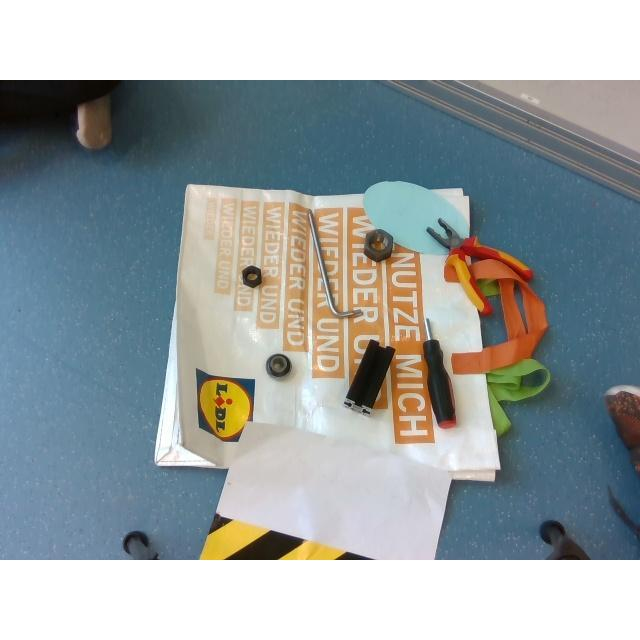AllenKey: (306, 208, 362, 318)
Bearing2: (266, 354, 290, 378)
M20: (242, 265, 262, 287)
M30: (363, 229, 393, 261)
S40_40_B: (344, 339, 394, 415)
